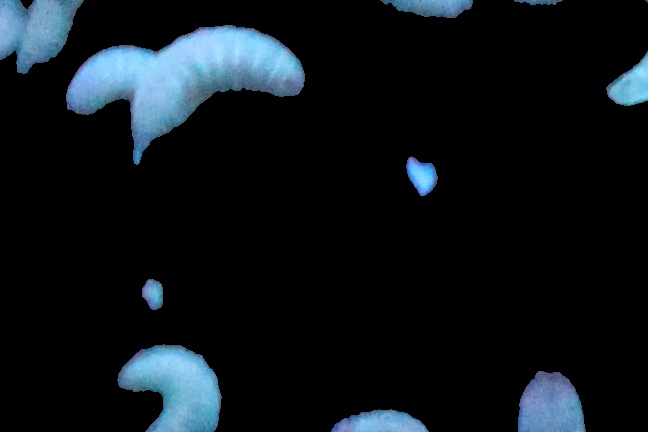larvae: (124, 26, 306, 159), (107, 341, 224, 432), (52, 43, 156, 113), (12, 1, 85, 79), (520, 358, 586, 432)
